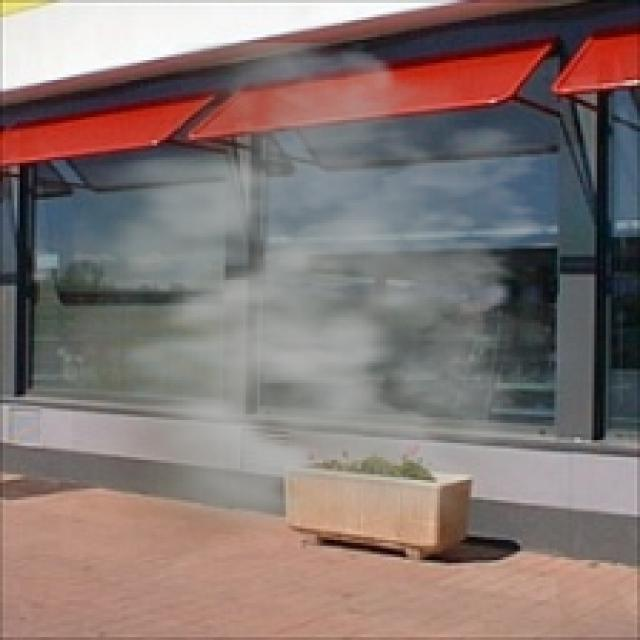Smoke: (71, 43, 603, 563)
